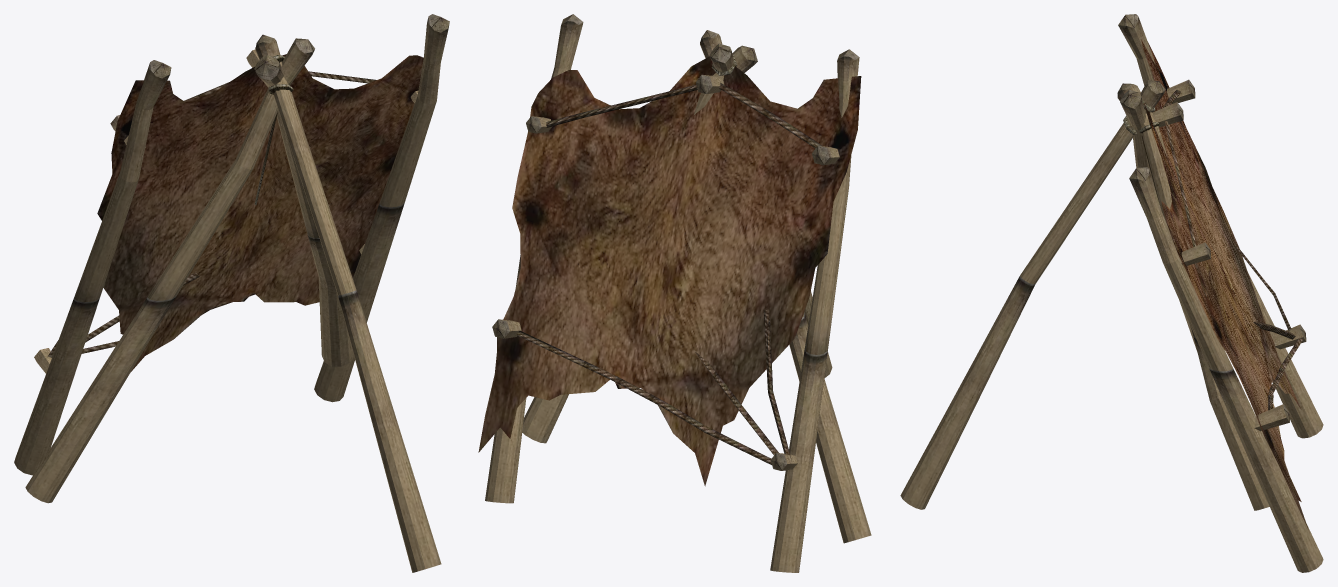
Rendered from TW2_5_CAMP_01_13-transformed.glb.
3 views of the same model, side by side, from view 1: azimuth 30°, elevation 25°; view 2: azimuth 150°, elevation 25°; view 3: azimuth 270°, elevation 25° (orthographic). The views are drawn at different scales.
Parts seen in each view (by area): view 1: default; view 2: default; view 3: default.
Part boxes in pixels (x1=…): default: x1=14, y1=14, x2=449, y2=572; default: x1=478, y1=14, x2=871, y2=572; default: x1=900, y1=14, x2=1323, y2=572.
Bounding box in the file's own units: 1.97 × 2.32 × 2.05.
1 material, 1 textured.
